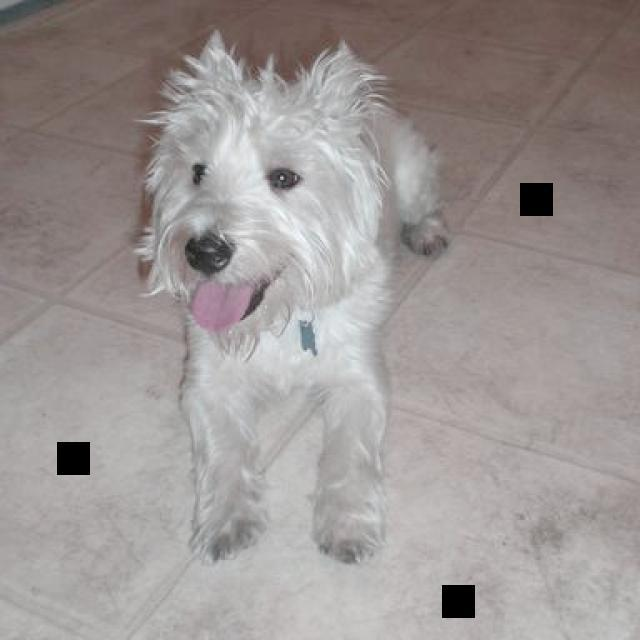adult_dog: (133, 29, 453, 566)
